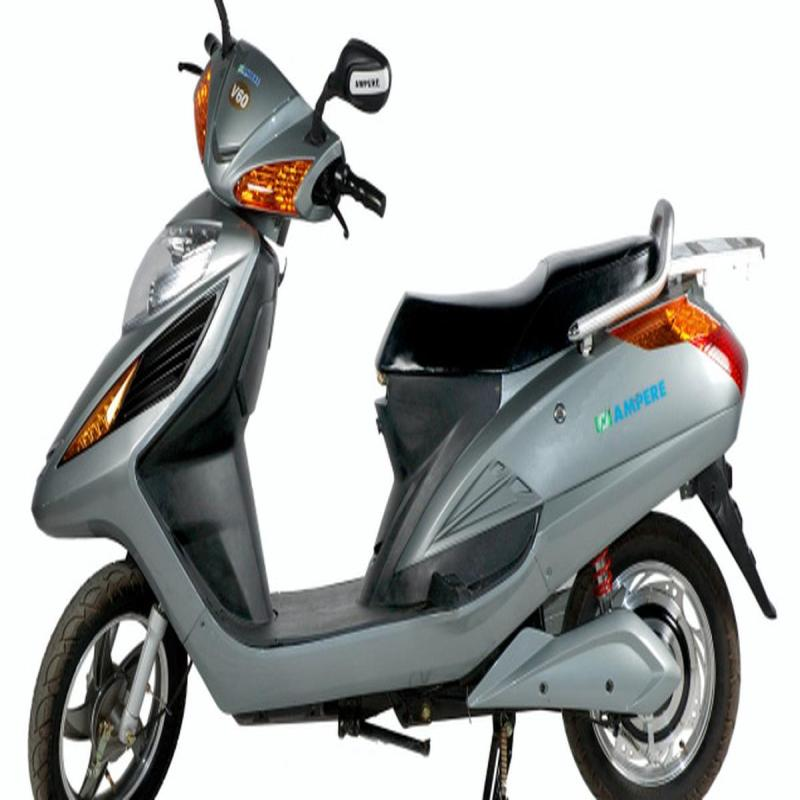bike: (17, 4, 783, 800)
